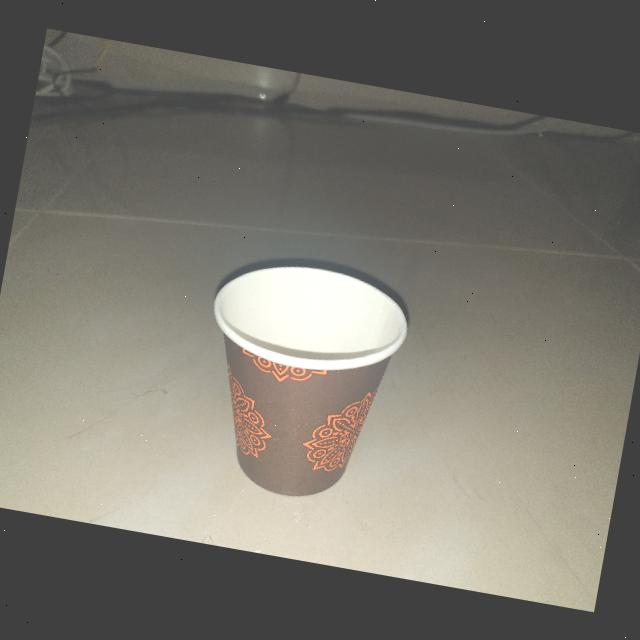trash: (175, 240, 422, 518)
